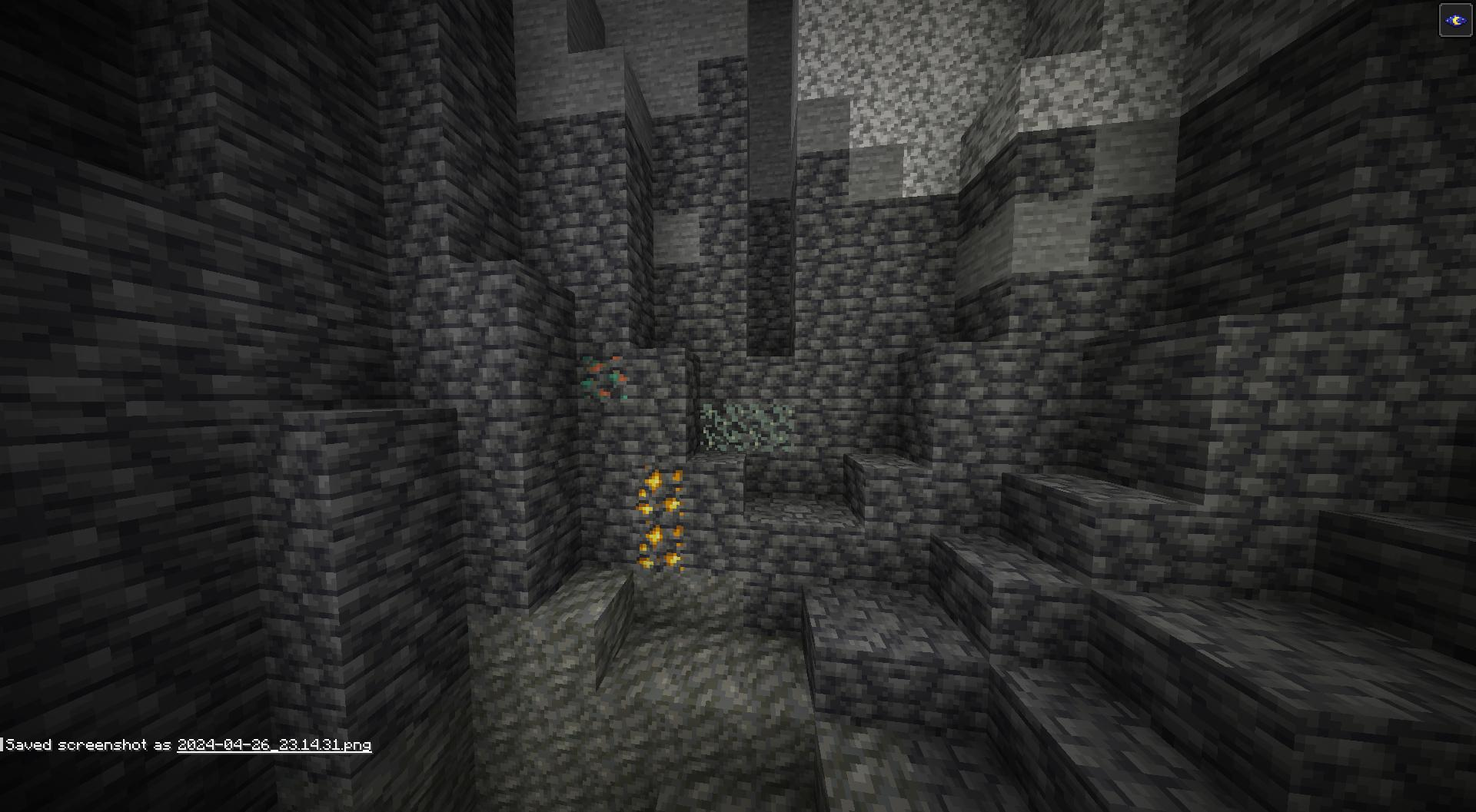gold ore: (630, 460, 690, 518), (634, 518, 683, 573)
